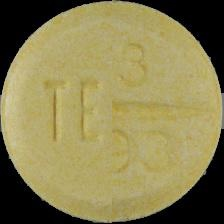63739-047: (0, 0, 224, 224)
